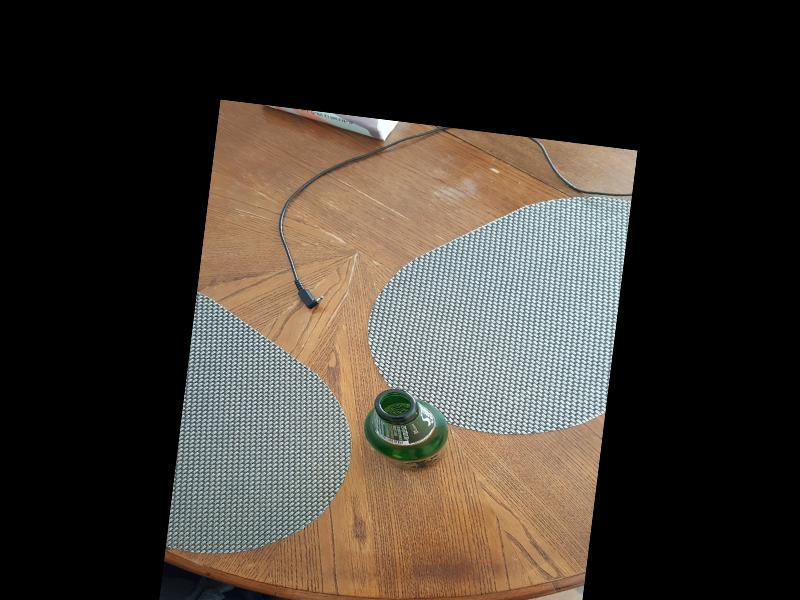Beer: (358, 385, 452, 473)
